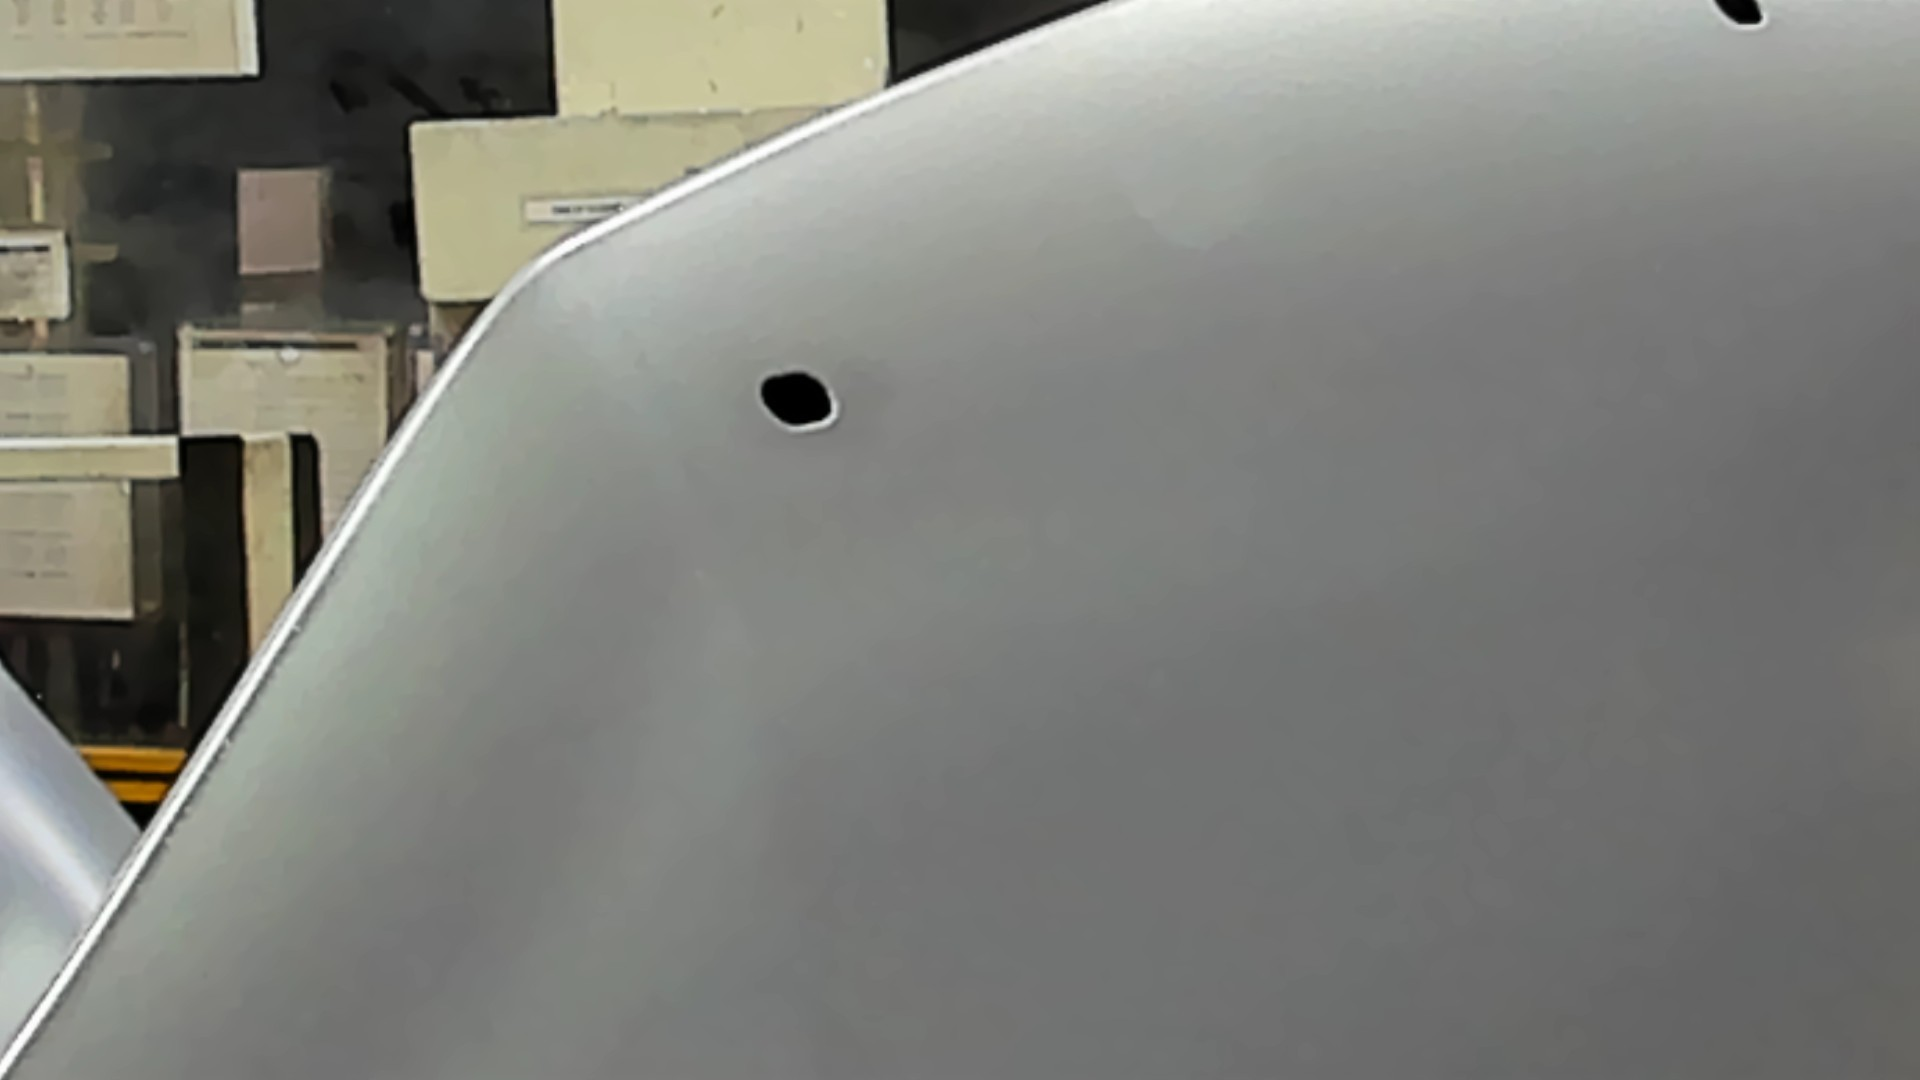amorfo: (752, 363, 837, 435), (1709, 1, 1768, 33)
